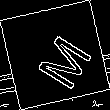M_NW: (22, 22, 88, 88)
